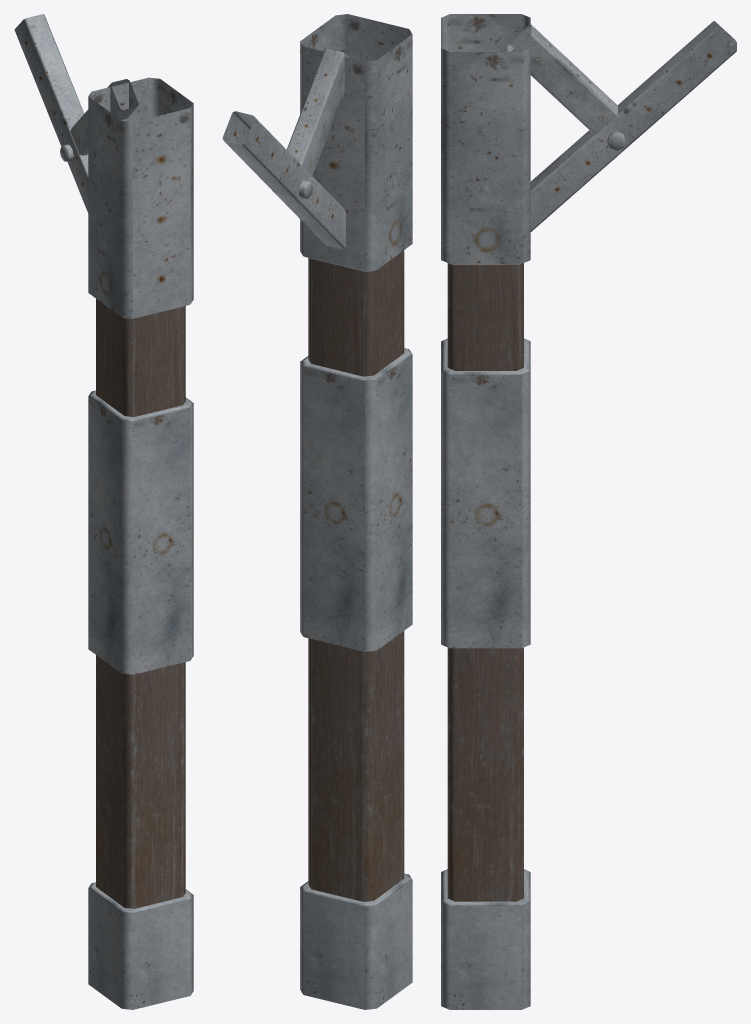
The model's file is Ob_WoodSupportSide_RC.fbx.
3 views of the same model, side by side, from view 1: azimuth 30°, elevation 25°; view 2: azimuth 150°, elevation 25°; view 3: azimuth 270°, elevation 25° (orthographic). The views are drawn at different scales.
Visible parts, largest first — view 1: Ob_WoodSupportSide_RC; view 2: Ob_WoodSupportSide_RC; view 3: Ob_WoodSupportSide_RC.
Part boxes in pixels (box(x1,y1,x2,y2)): Ob_WoodSupportSide_RC: box(14, 14, 193, 1009); Ob_WoodSupportSide_RC: box(222, 14, 412, 1009); Ob_WoodSupportSide_RC: box(441, 14, 736, 1009).
Size of the model in its own units: 97.67 by 1160 by 322.
